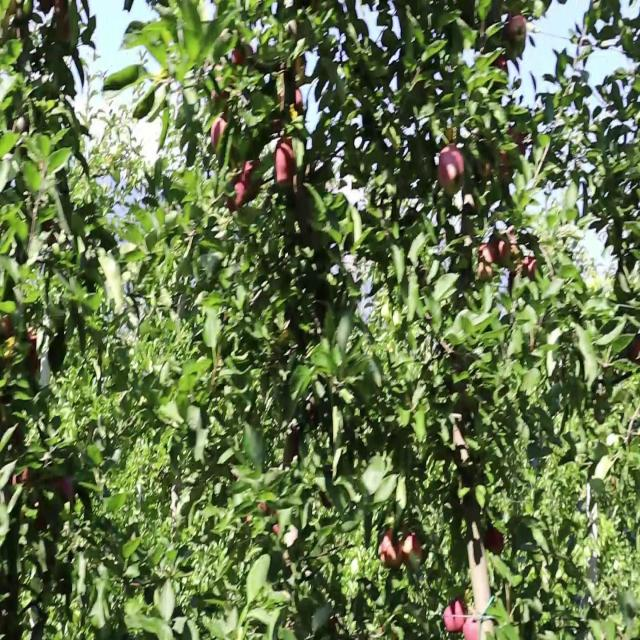apple: (440, 149, 465, 197), (500, 127, 526, 171), (276, 142, 297, 188), (380, 526, 402, 569), (444, 597, 466, 635), (400, 533, 424, 567), (480, 241, 498, 279), (228, 177, 247, 213), (52, 476, 76, 503), (232, 42, 254, 69), (508, 14, 528, 43), (212, 120, 228, 155), (244, 163, 260, 197), (488, 526, 505, 556), (520, 255, 537, 283), (28, 334, 40, 373), (12, 469, 30, 489), (500, 241, 512, 267), (628, 341, 640, 364), (296, 92, 304, 116)
